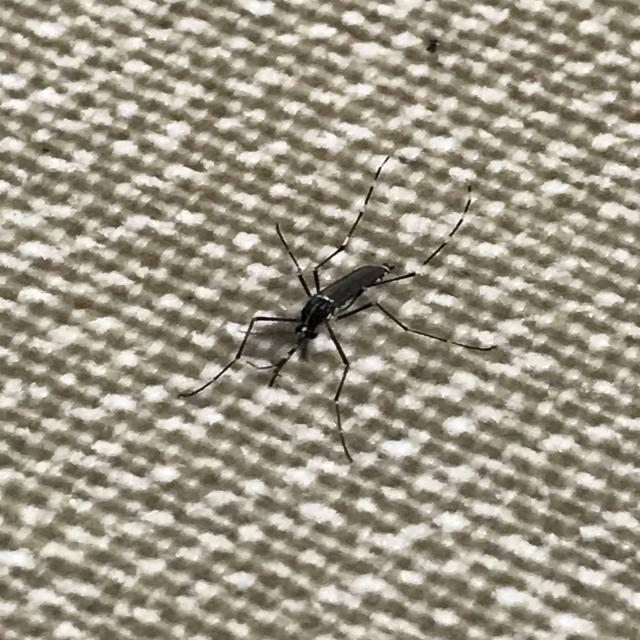albopictus: (173, 127, 531, 446)
